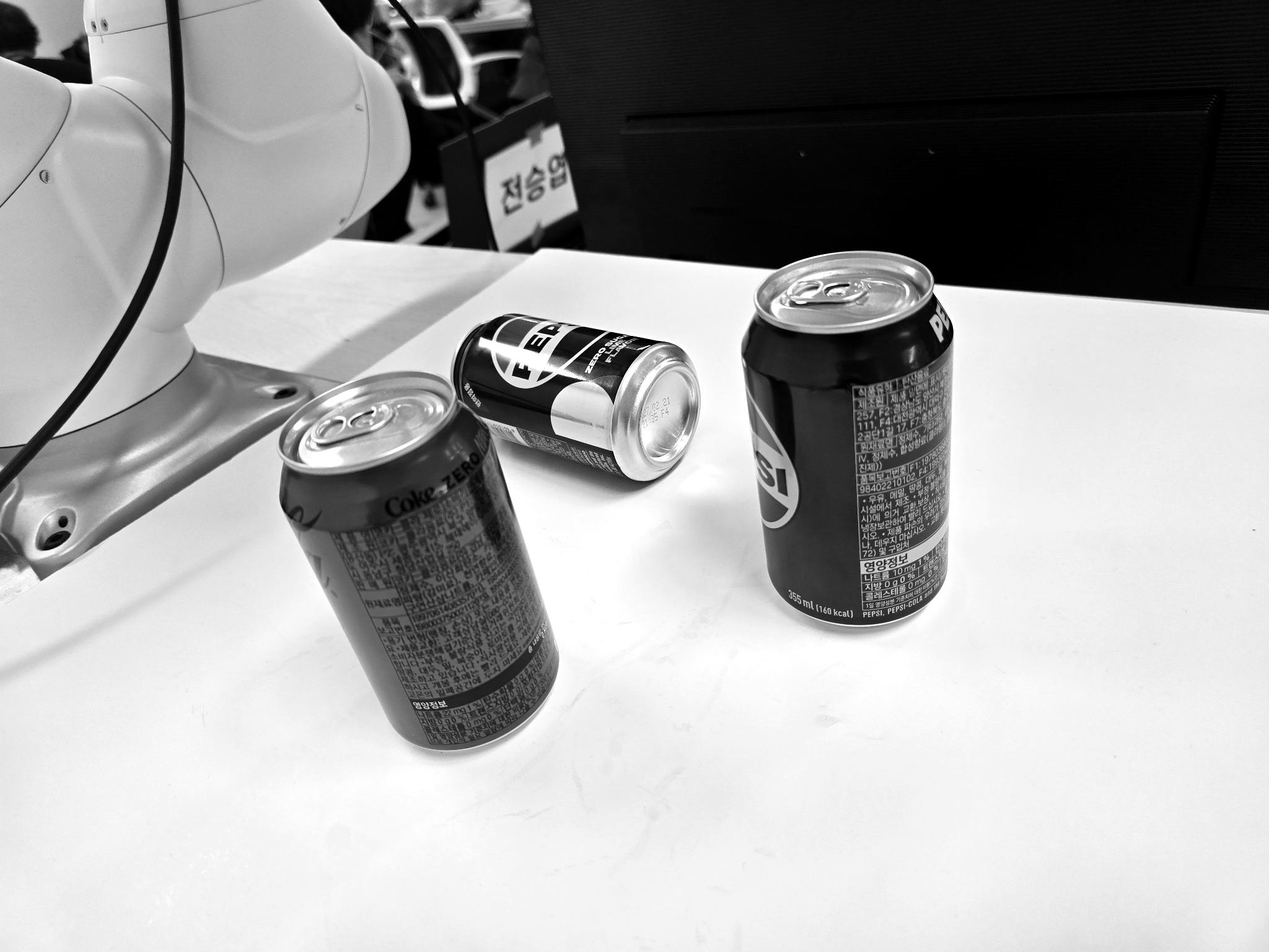can_coke_zero: (279, 372, 558, 750)
can_pepsi: (743, 252, 954, 626)
can_pepsi_zero: (451, 314, 700, 480)
